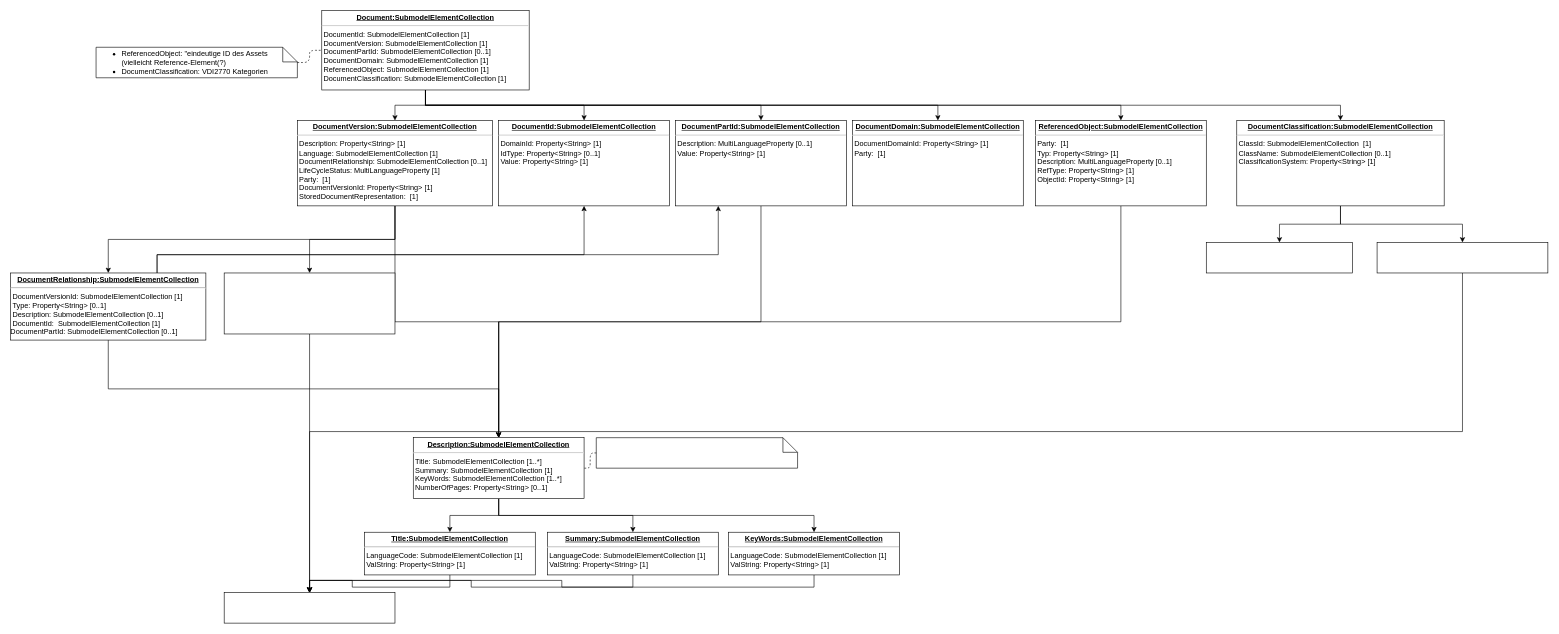
Some shapes in this 1559 by 634 pixel diagram are drawn without their labels. The shapes that lost their labels are listed below. From the top down, each one's centre as x and y in pixels, then its label:
At (1279,257): "ClassId:SubmodelElementCollection ValString: Property<String> [1]".
At (1462,257): "ClassName:SubmodelElementCollection LanguageCode: SubmodelElementCollection [1]".
At (309,303): "Language:SubmodelElementCollection LanguageCode: SubmodelElementCollection [1]".
At (697,452): "NumberOfPages: Datentyp mit Zahl???".
At (309,607): "LanguageCode:SubmodelElementCollection ValString: Property<String> [1]".
